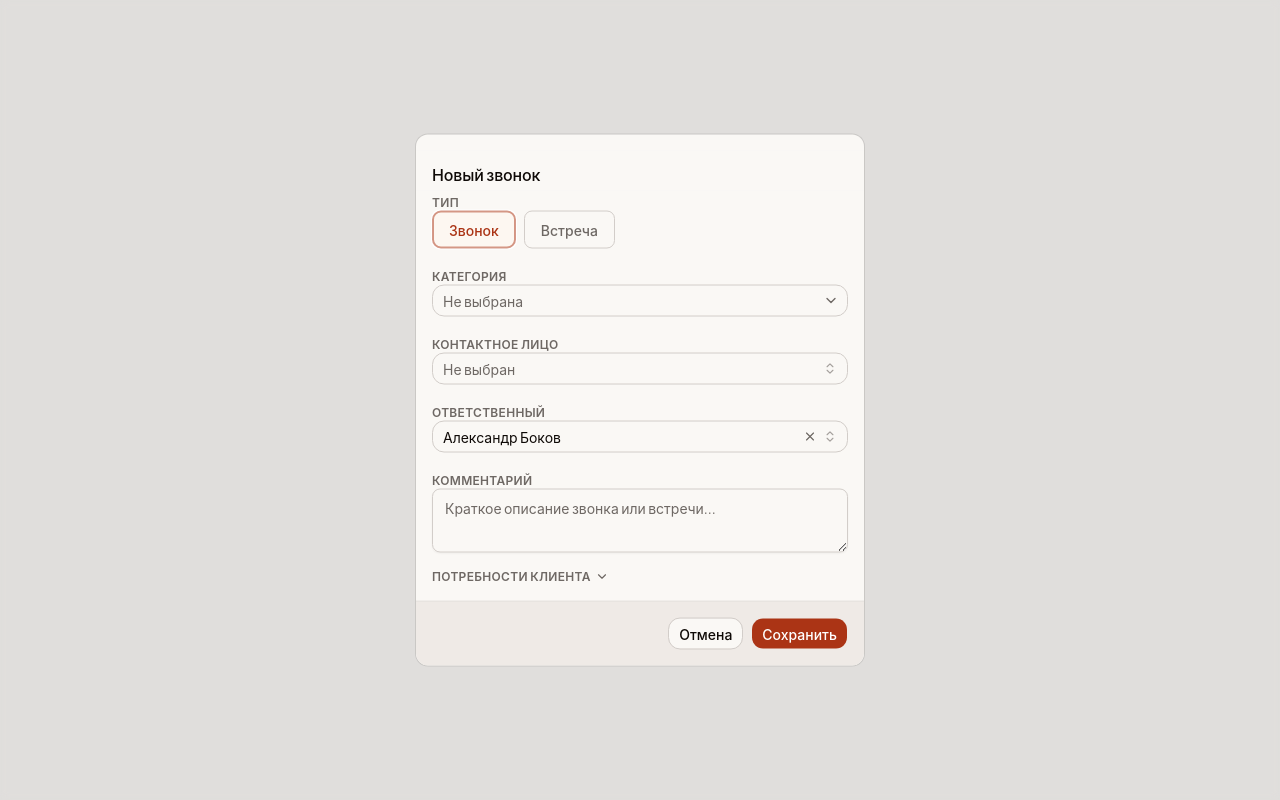
Test: CallFormModal — contact picker UI (МОП-4 follow-up) › lists every contact (with name + position) inside the Контактное лицо combobox
Click the button with aria-label "Контактное лицо".
click(479, 368)  # box [432,352,848,384]
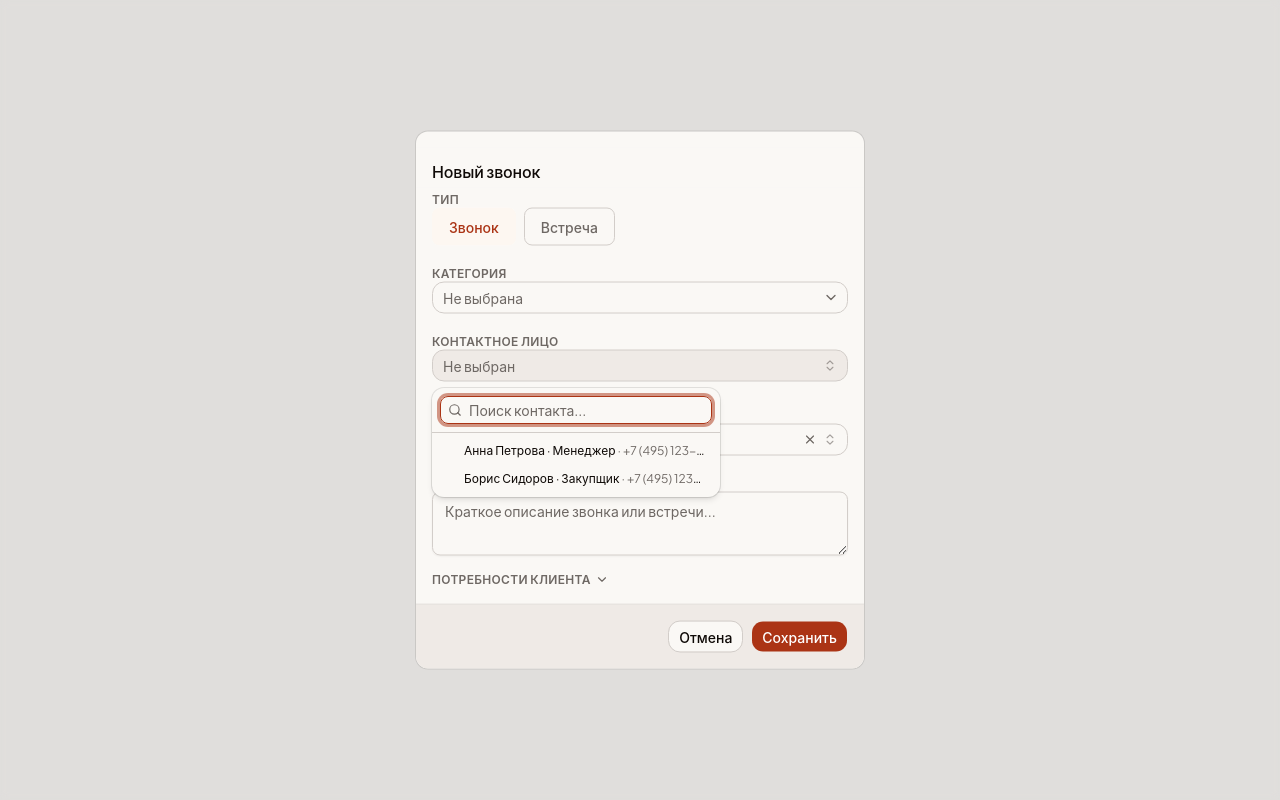
Check: the text "Анна Петрова · Менеджер" is shown, box [464,443,616,458]
Check: the text "Борис Сидоров · Закупщик" is shown, box [464,471,620,486]
